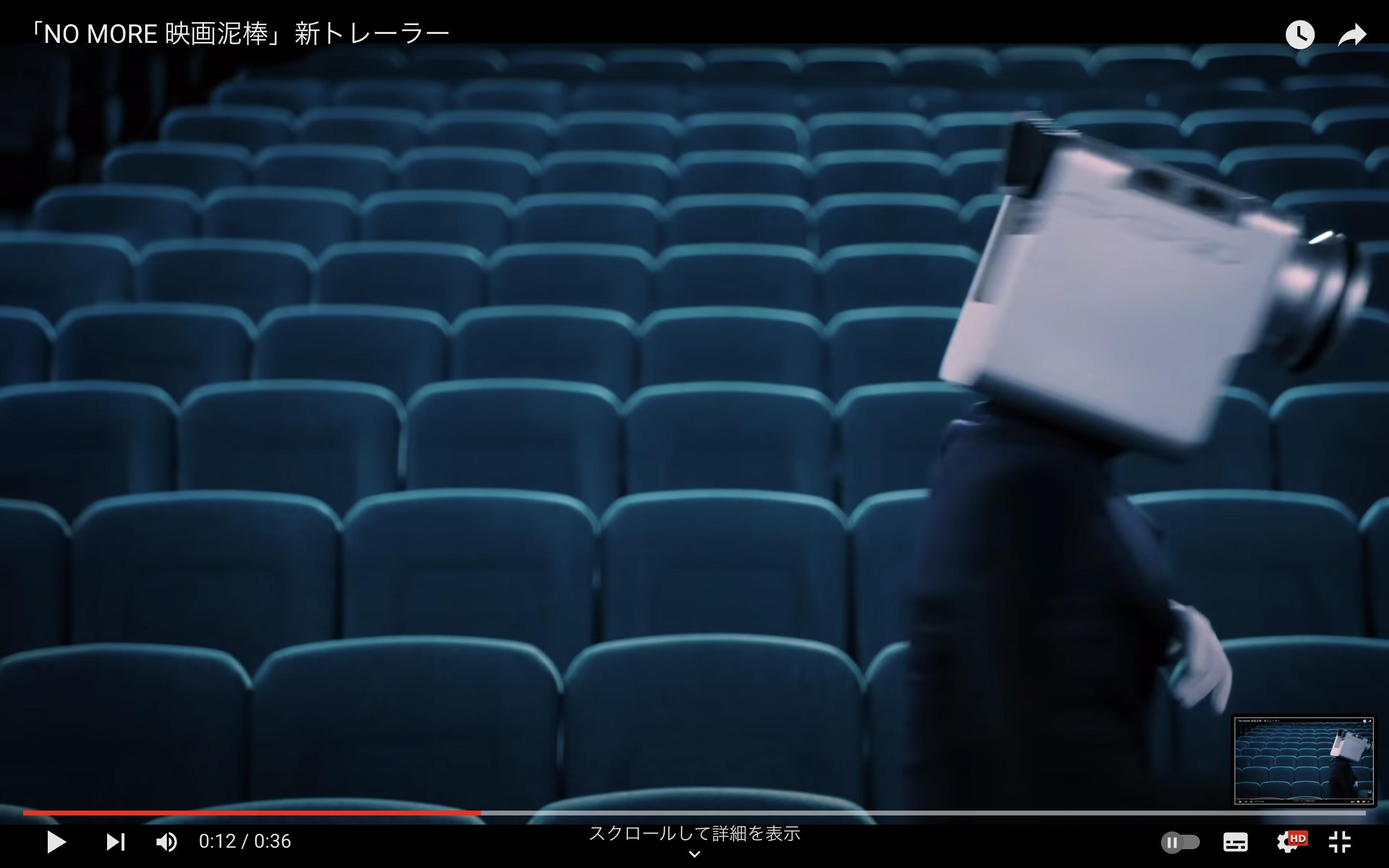no more kid: (916, 82, 1389, 466)
